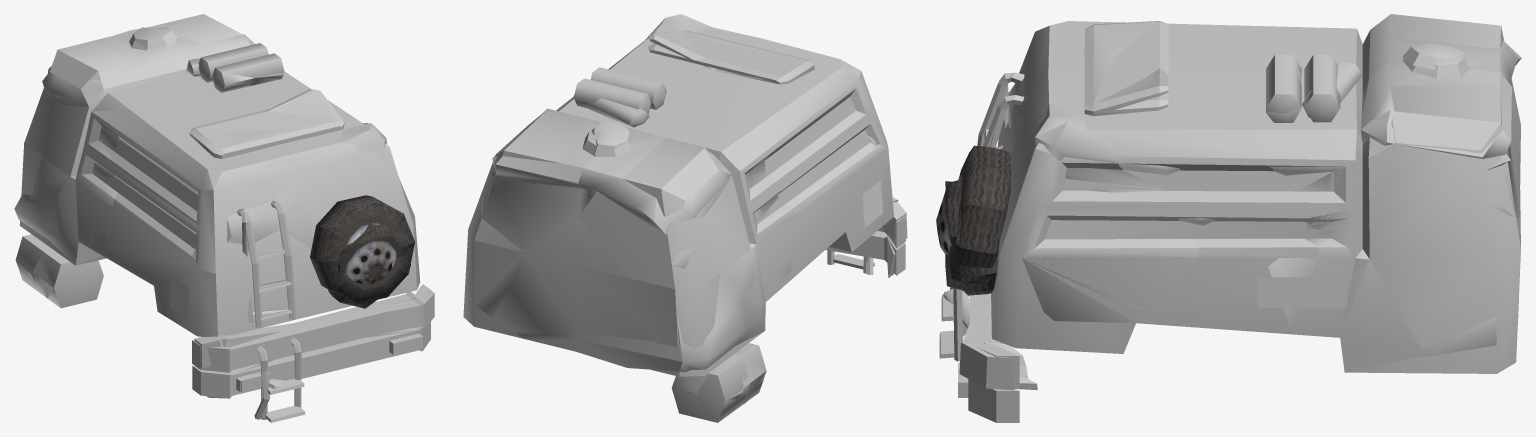
File: cargo03.fbx
3 views of the same model, side by side, from view 1: azimuth 30°, elevation 25°; view 2: azimuth 150°, elevation 25°; view 3: azimuth 270°, elevation 25° (orthographic). The views are drawn at different scales.
Parts seen in each view (by area): view 1: polySurface110_1, polySurface115_1, polySurface113_1, polySurface114_1, polySurface113_2, polySurface203_1, polySurface110_2, polySurface205_2, polySurface200_1, polySurface115_2, polySurface203_3, polySurface108_1 (+6 smaller); view 2: polySurface113_2, polySurface110_1, polySurface113_1, polySurface114_1, polySurface108_1, polySurface200_1, polySurface205_2, polySurface205_1, polySurface110_2, polySurface108_2, polySurface200_2, polySurface115_1 (+5 smaller); view 3: polySurface114_1, polySurface113_1, polySurface114_2, polySurface113_2, polySurface110_1, polySurface203_1, polySurface115_1, polySurface108_1, polySurface205_2, polySurface205_1, LOGO_1, polySurface115_2 (+5 smaller).
Boxes of the visible parts, left/top/right/bottom form: polySurface110_1: left=75, top=73, right=317, bottom=336; polySurface115_1: left=192, top=200, right=431, bottom=422; polySurface113_1: left=19, top=14, right=242, bottom=265; polySurface114_1: left=184, top=71, right=420, bottom=313; polySurface113_2: left=14, top=27, right=254, bottom=264; polySurface203_1: left=310, top=195, right=414, bottom=303; polySurface110_2: left=75, top=93, right=313, bottom=257; polySurface205_2: left=189, top=89, right=343, bottom=158; polySurface200_1: left=15, top=234, right=103, bottom=308; polySurface115_2: left=194, top=208, right=434, bottom=369; polySurface203_3: left=328, top=224, right=411, bottom=308; polySurface108_1: left=129, top=27, right=284, bottom=92; polySurface113_2: left=474, top=108, right=765, bottom=372; polySurface110_1: left=640, top=38, right=893, bottom=301; polySurface113_1: left=463, top=111, right=763, bottom=376; polySurface114_1: left=556, top=27, right=760, bottom=130; polySurface108_1: left=573, top=67, right=666, bottom=156; polySurface200_1: left=671, top=343, right=766, bottom=422; polySurface205_2: left=648, top=30, right=814, bottom=84; polySurface205_1: left=648, top=30, right=814, bottom=84; polySurface110_2: left=722, top=133, right=878, bottom=300; polySurface108_2: left=584, top=88, right=655, bottom=155; polySurface200_2: left=696, top=344, right=766, bottom=417; polySurface115_1: left=827, top=216, right=905, bottom=275; polySurface114_1: left=991, top=73, right=1362, bottom=353; polySurface113_1: left=1340, top=14, right=1520, bottom=373; polySurface114_2: left=1010, top=104, right=1361, bottom=345; polySurface113_2: left=1340, top=22, right=1521, bottom=372; polySurface110_1: left=997, top=21, right=1362, bottom=150; polySurface203_1: left=941, top=145, right=1010, bottom=290; polySurface115_1: left=939, top=72, right=1024, bottom=422; polySurface108_1: left=1266, top=42, right=1470, bottom=122; polySurface205_2: left=1084, top=21, right=1168, bottom=111; polySurface205_1: left=1084, top=21, right=1168, bottom=116; LOGO_1: left=1257, top=277, right=1346, bottom=307; polySurface115_2: left=959, top=73, right=1023, bottom=390.
Size of the model in its own units: 2.8 by 2.74 by 4.35.
